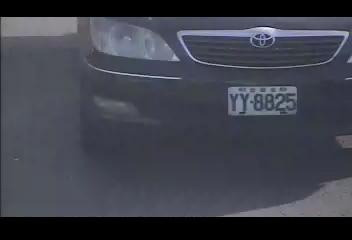plate: (224, 84, 300, 118)
